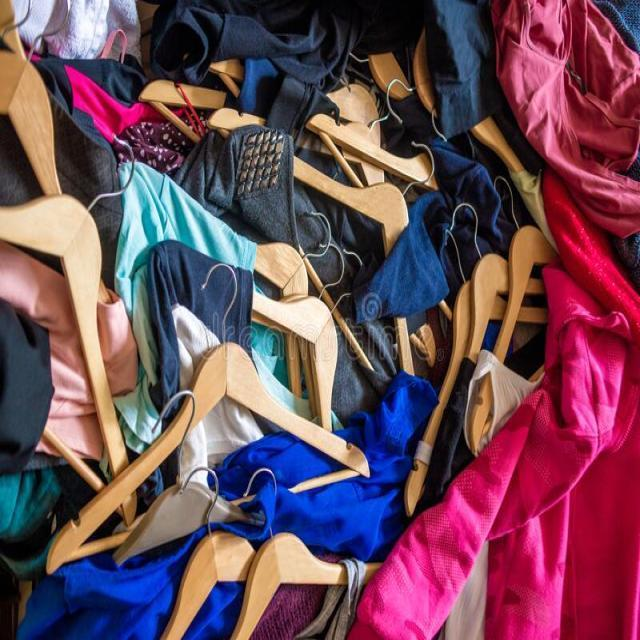clothes: (31, 88, 608, 620)
